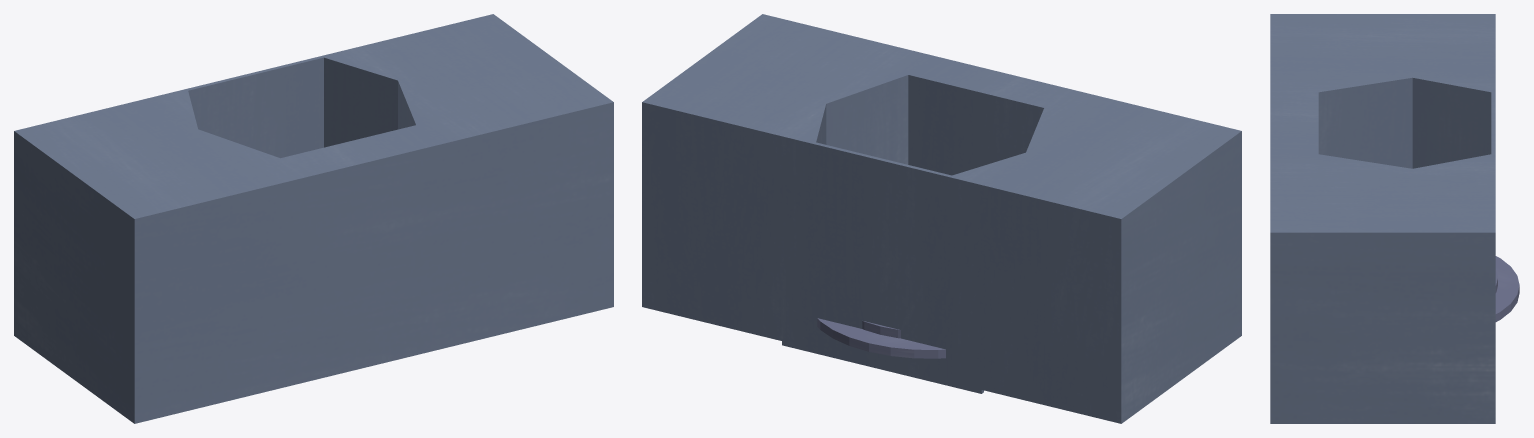
The model's file is Door Open.fbx.
3 views of the same model, side by side, from view 1: azimuth 30°, elevation 25°; view 2: azimuth 150°, elevation 25°; view 3: azimuth 270°, elevation 25° (orthographic). The views are drawn at different scales.
Visible parts, largest first — view 1: Door Frame; view 2: Door Frame; view 3: Door Frame.
Boxes of the visible parts, x1=… form: Door Frame: x1=14, y1=14, x2=613, y2=423; Door Frame: x1=642, y1=14, x2=1241, y2=423; Door Frame: x1=1270, y1=14, x2=1519, y2=423.
Size of the model in its own units: 12 by 5 by 5.78.
